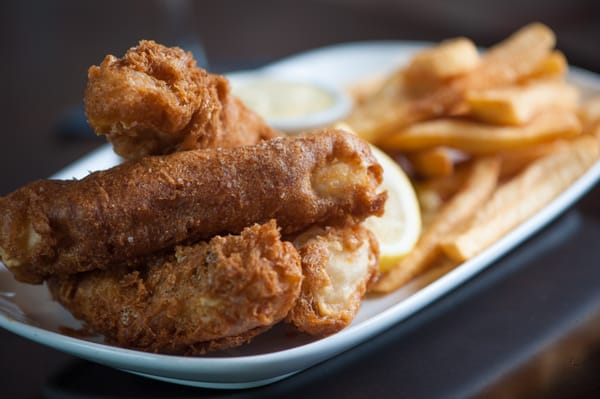sushi: (3, 22, 599, 390)
